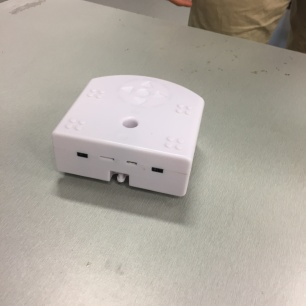thymio: (45, 65, 213, 209)
